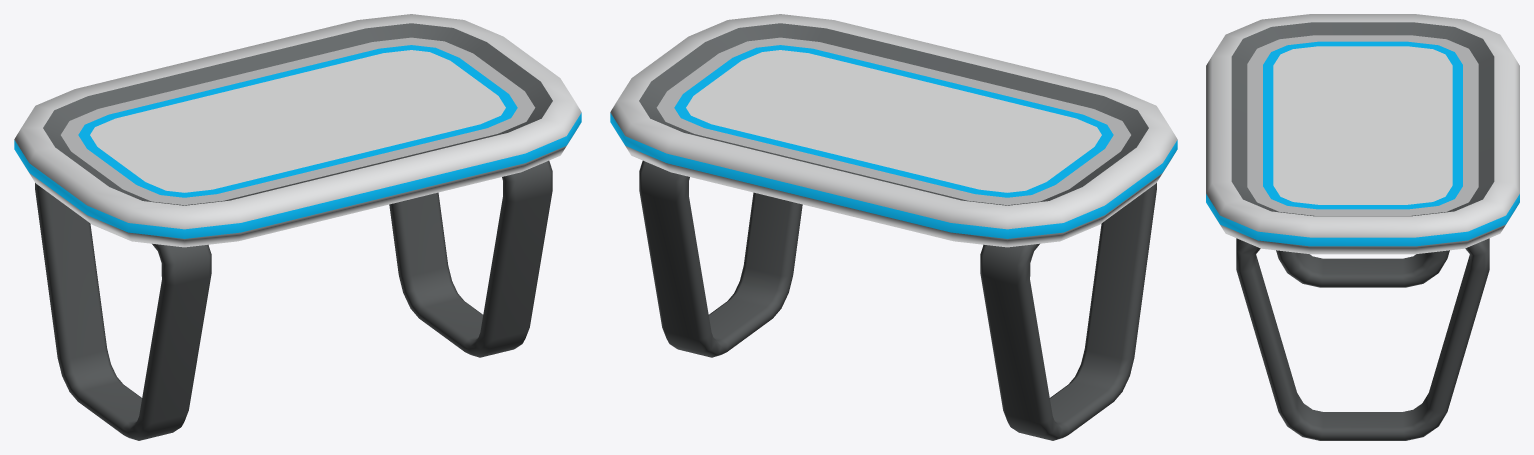
The model's file is Desk_019.glb.
The picture shows the model from 3 angles, left to right: view 1: azimuth 30°, elevation 25°; view 2: azimuth 150°, elevation 25°; view 3: azimuth 270°, elevation 25°; orthographic projection. The views are drawn at different scales.
Visible parts, largest first — view 1: Desk_019; view 2: Desk_019; view 3: Desk_019.
Boxes of the visible parts, x1,y1,x2,y2 form: Desk_019: [14, 14, 581, 440]; Desk_019: [610, 14, 1177, 440]; Desk_019: [1206, 14, 1519, 440].
Size of the model in its own units: 1.64 by 0.8483 by 1.01.
2 materials, 2 textured.
